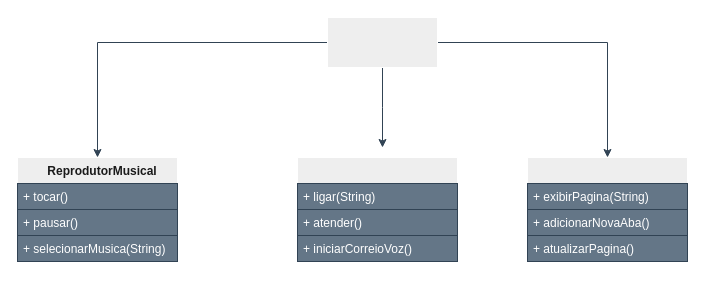
Image size: 705x282. Some labels were removed from this diagram. Here are the shapes that lost their labels. From the top down, the box of each, then its label:
(326, 16, 438, 68): iPhone
(296, 156, 458, 262): AparelhoTelefonico
(526, 156, 688, 262): NavegadorNaInternet
